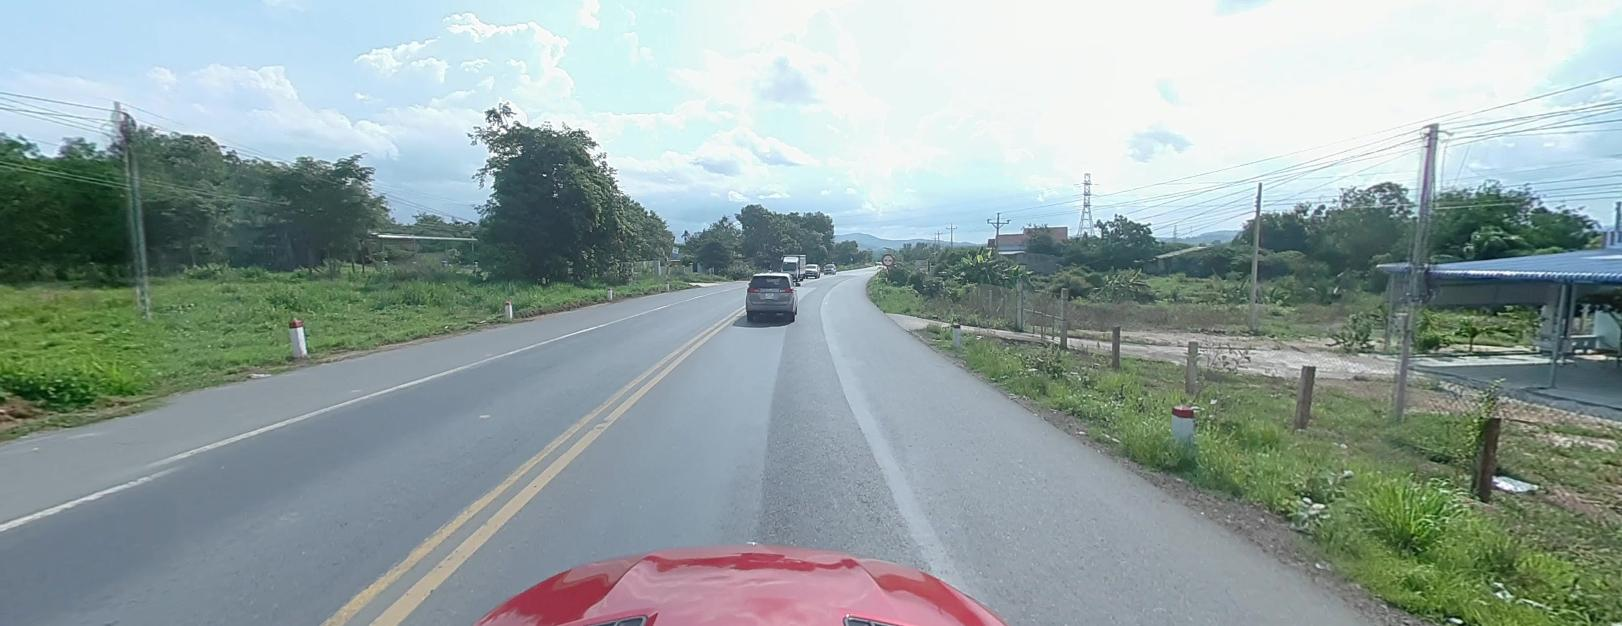Cam con lai: (881, 252, 893, 264), (882, 252, 893, 264)
